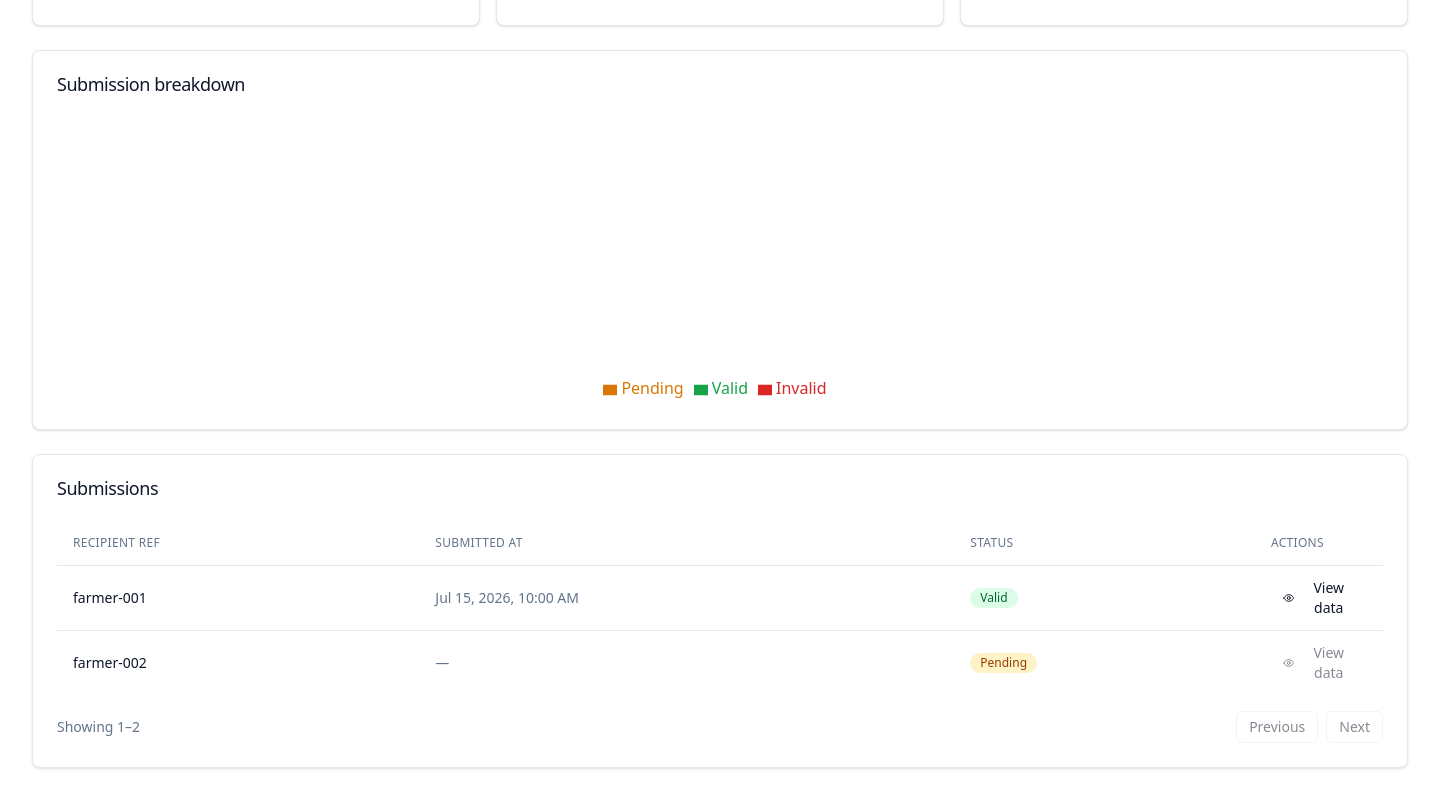
Test case: CampaignDetailPage › "View data" button opens dialog showing submission field values
The image size is (1440, 800).
(page scrolled)
First submission (farmer-001) has data — its View data button should be enabled
Click the button "View data" in the row of "farmer-001".
click(1319, 598)  # box x1=1271 y1=582 x2=1367 y2=614
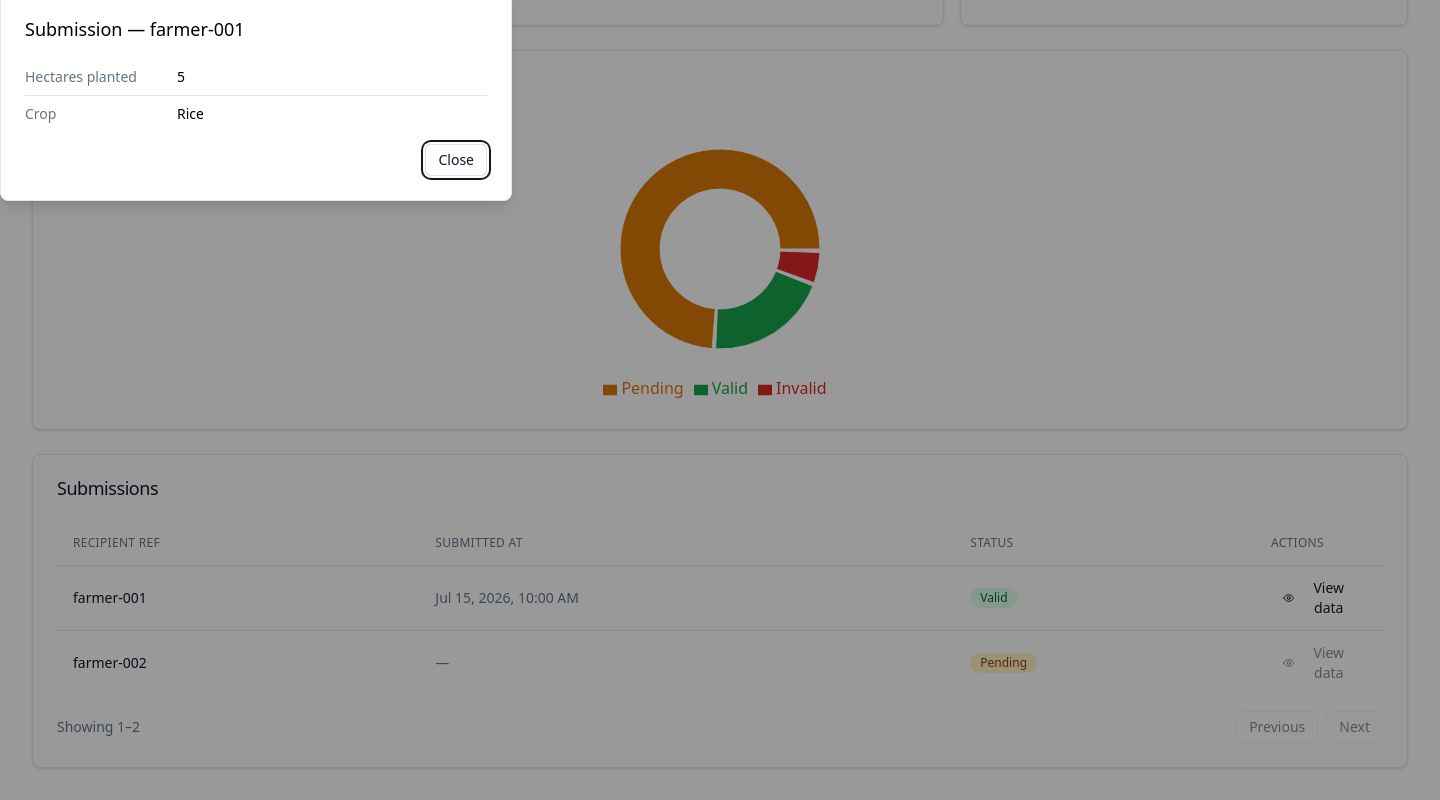
Expected: the text "Hectares planted" is shown, x1=25 y1=67 x2=137 y2=86
Expected: the text "5" is shown, x1=177 y1=67 x2=185 y2=86
